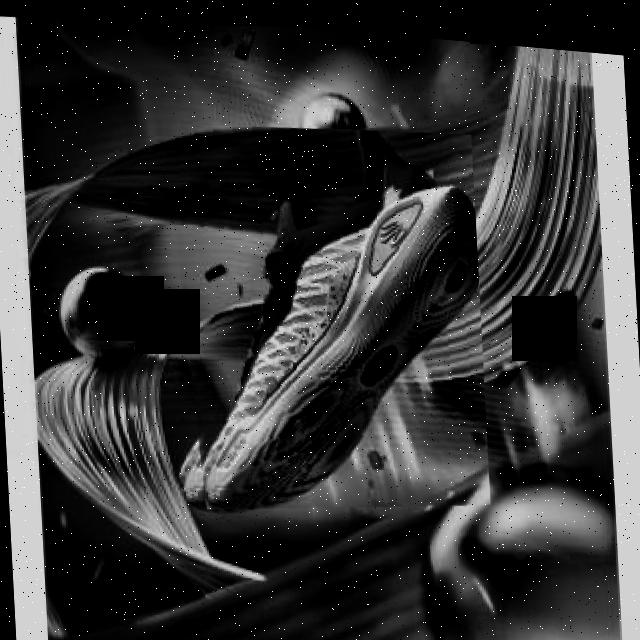shoe: (164, 104, 492, 527)
